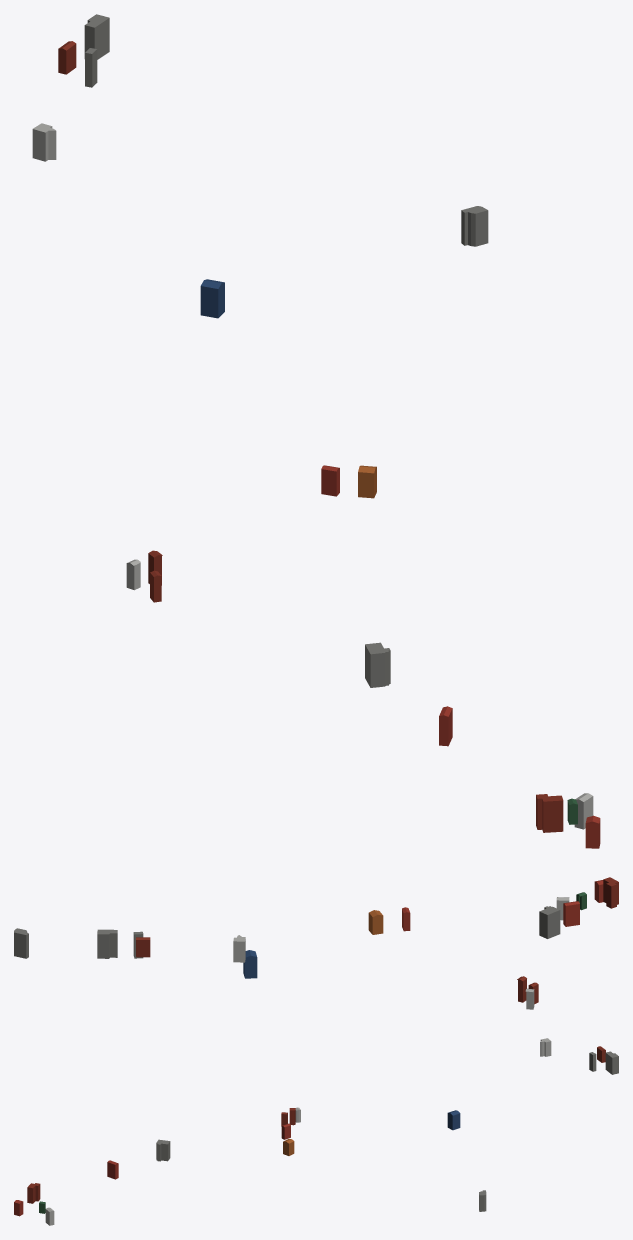
Rendered from near-15-27368-14863.877edeef.glb.
The picture shows the model from 3 angles, top to bottom: view 1: azimuth 30°, elevation 25°; view 2: azimuth 150°, elevation 25°; view 3: azimuth 270°, elevation 25°; orthographic projection. The views are drawn at different scales.
Bounding box in the file's own units: 400 × 265 × 775.
